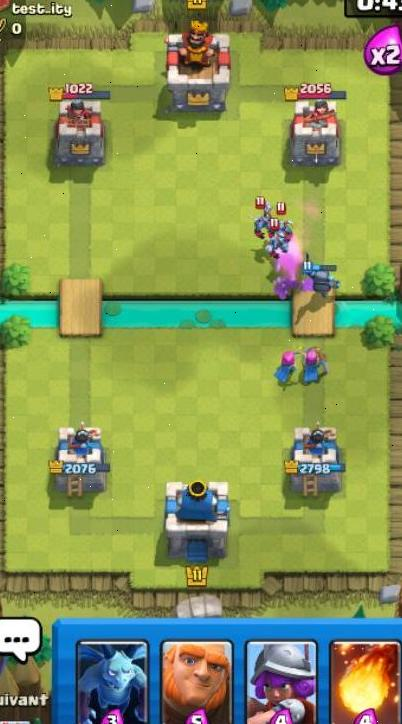enemy_minions: (266, 217, 298, 254), (250, 203, 278, 236)
player_archers: (299, 343, 332, 384), (271, 346, 301, 386)
player_mini_pekka: (300, 255, 343, 297)
